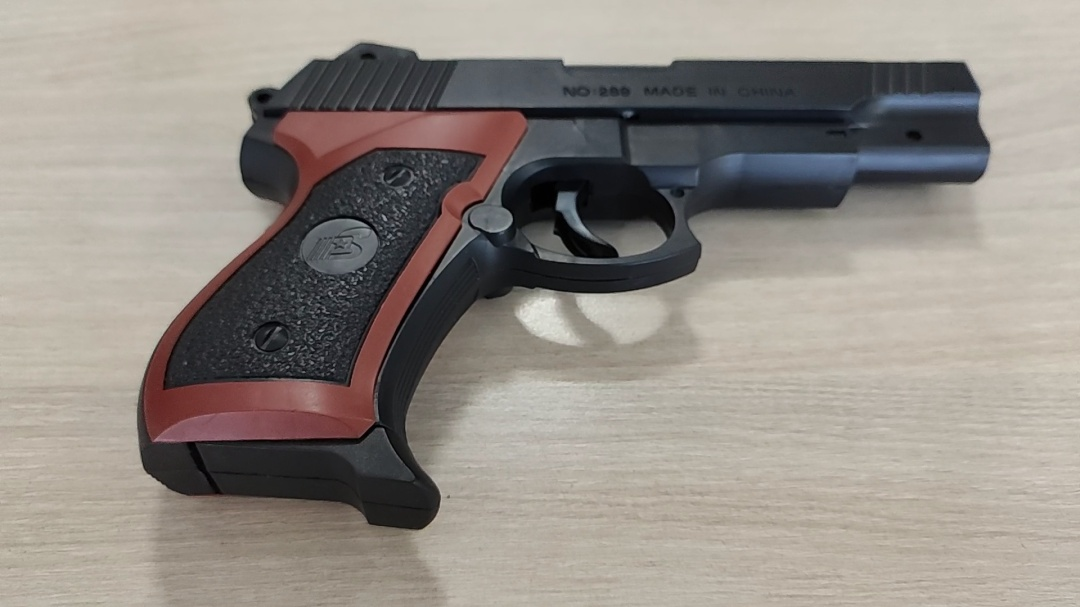gun: (529, 113, 688, 367)
